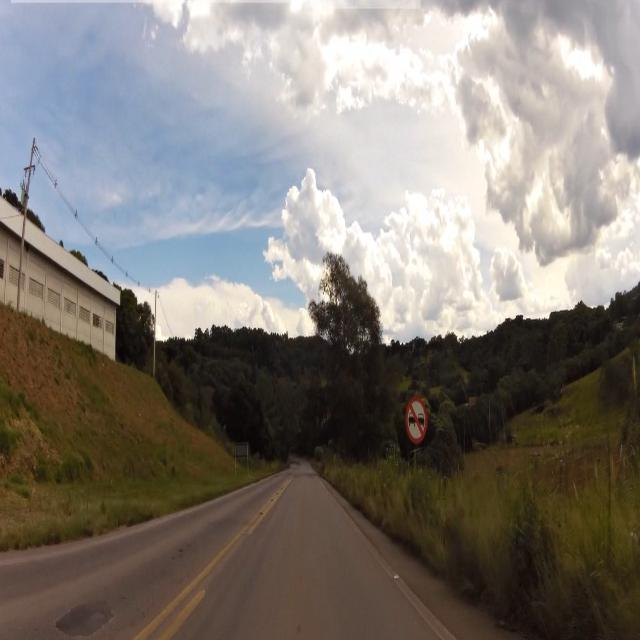R-7: (406, 396, 428, 443)
